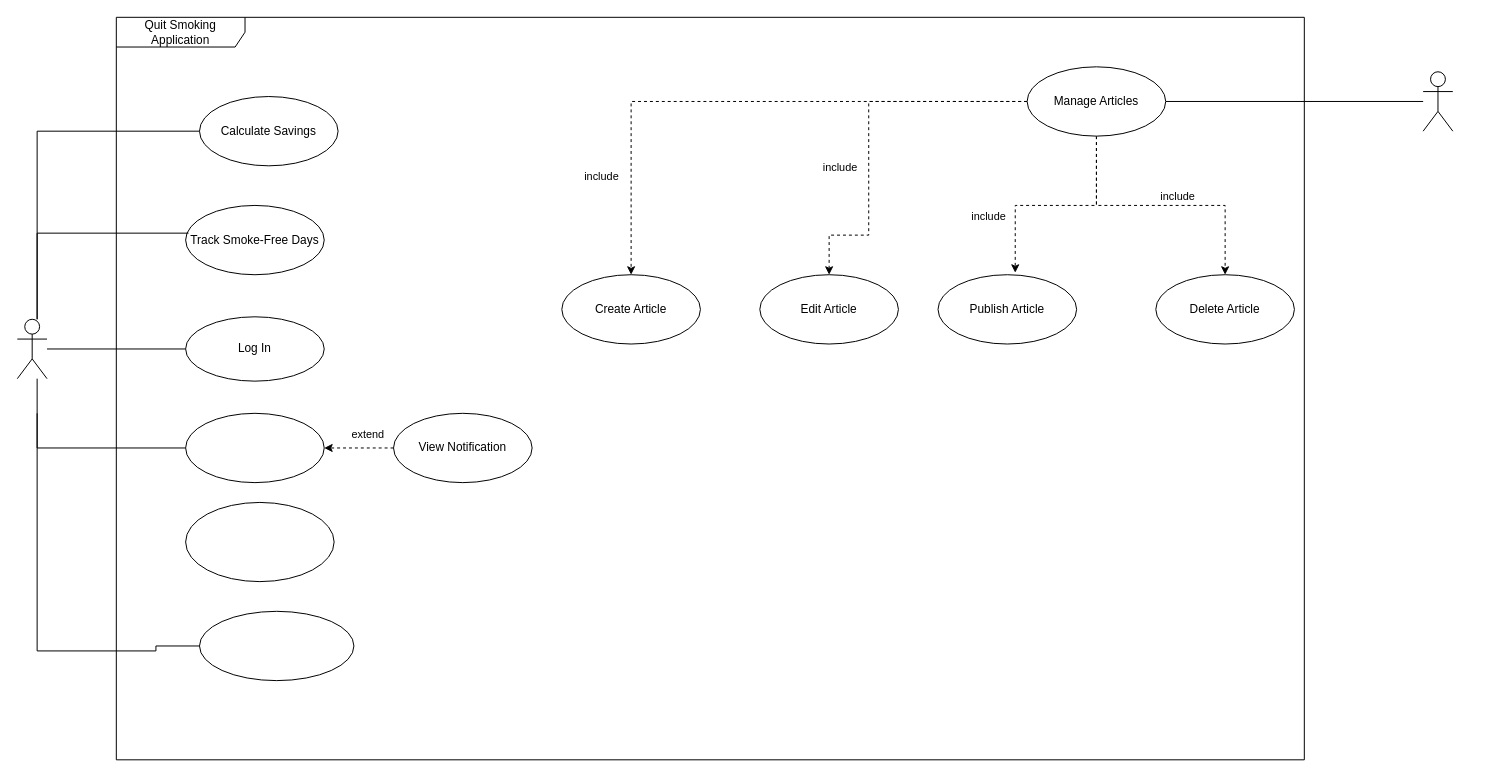
Some shapes in this 1512 by 777 pixel diagram are drawn without their labels. The shapes that lost their labels are listed below. From the top down, each one's centre as x and y in pixels, then its label:
At pixel 1437 101: "Content Administrator".
At pixel 31 348: "User".
At pixel 254 447: "Receive Motivational Notifications".
At pixel 259 541: "View Statistics".
At pixel 276 645: "Read Articles".
